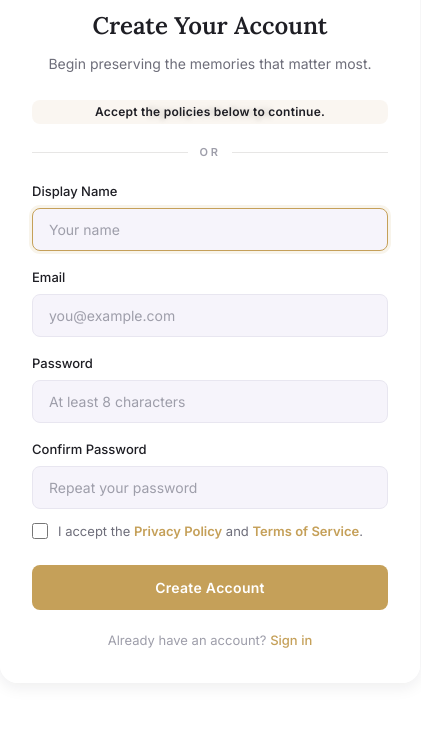
RegisterPage › blocks registration when the policies are not accepted
Type "John Doe" into the field labelled "Display Name" at (210, 230), box top-left (32, 208), bottom-right (388, 251)
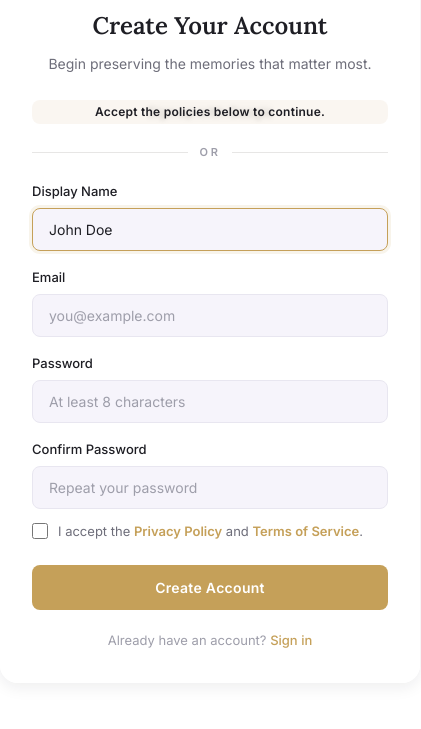
Type "john@gmail.com" into the field labelled "Email" at (210, 316), box top-left (32, 294), bottom-right (388, 337)
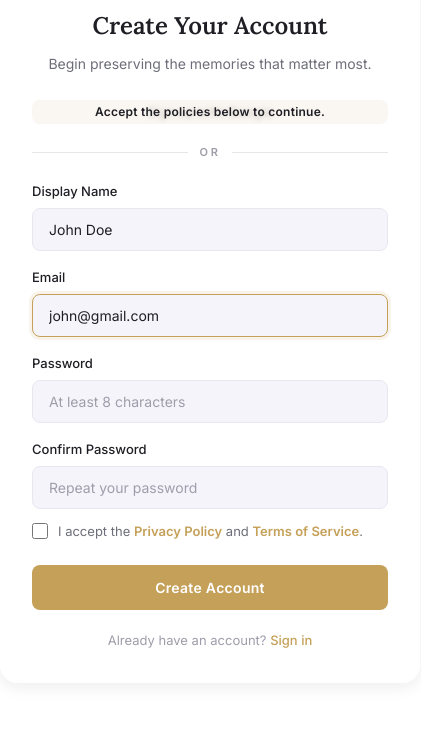
Type "Password123!" into the password field labelled "Password" at (210, 401), box top-left (32, 380), bottom-right (388, 423)
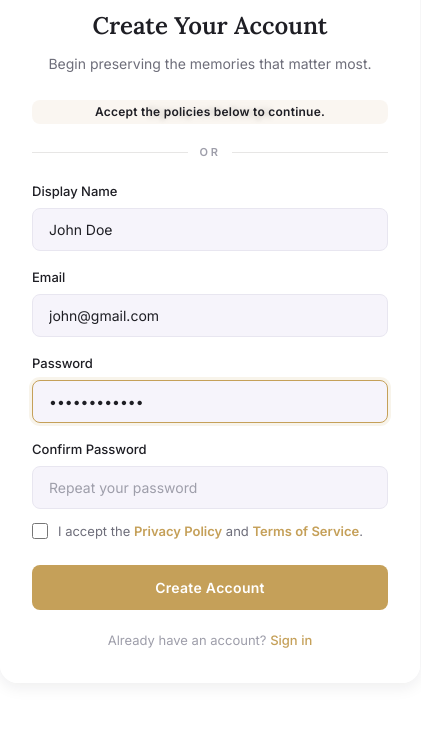
Type "Password123!" into the password field labelled "Confirm Password" at (210, 487), box top-left (32, 466), bottom-right (388, 509)
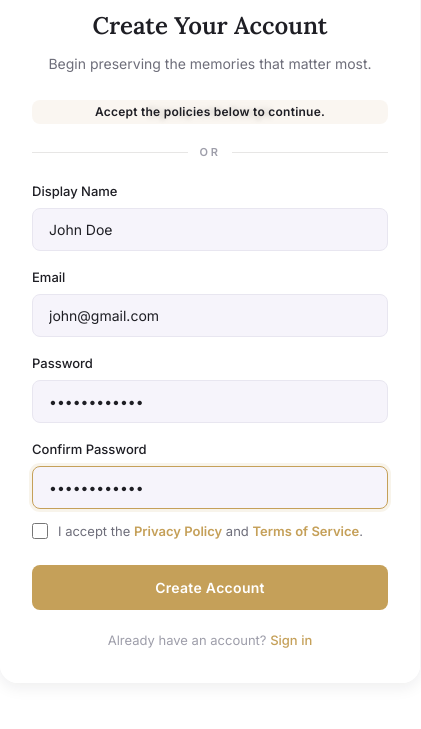
Click the button "Create Account" at (210, 588), box top-left (32, 565), bottom-right (388, 610)
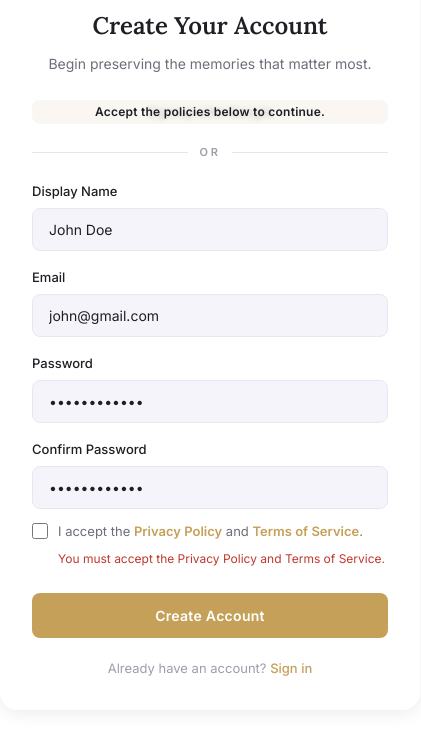
Expected: the text "You must accept the Privacy Policy and Terms of Service." is shown, top-left (58, 549), bottom-right (388, 569)
